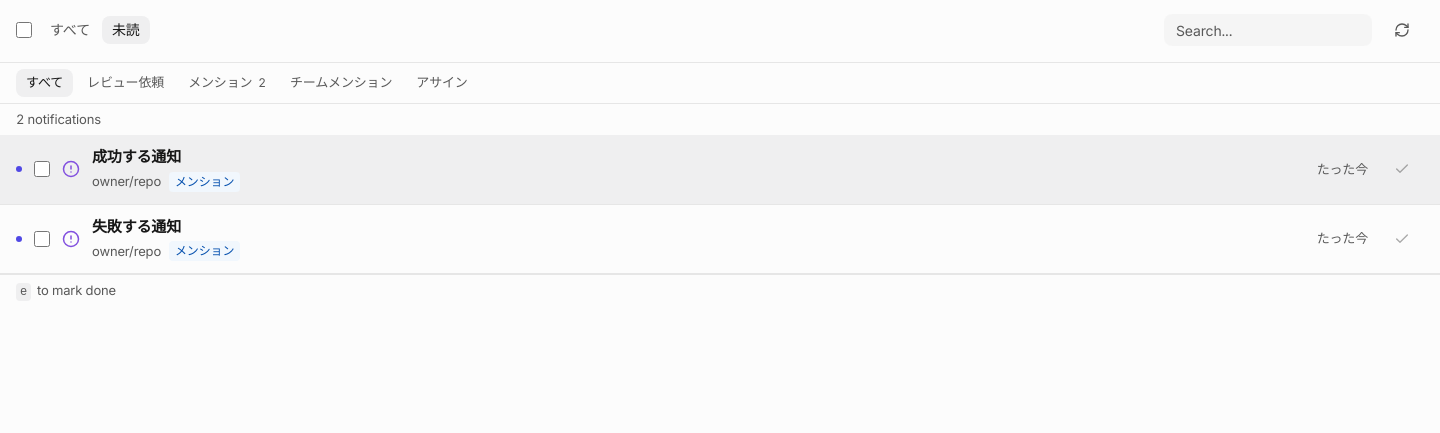
Test: InboxList › 全件表示の一部失敗では既読行を未処理残件に含めない
Click the 1st button "すべて" at (70,30), box [40,16,100,44]
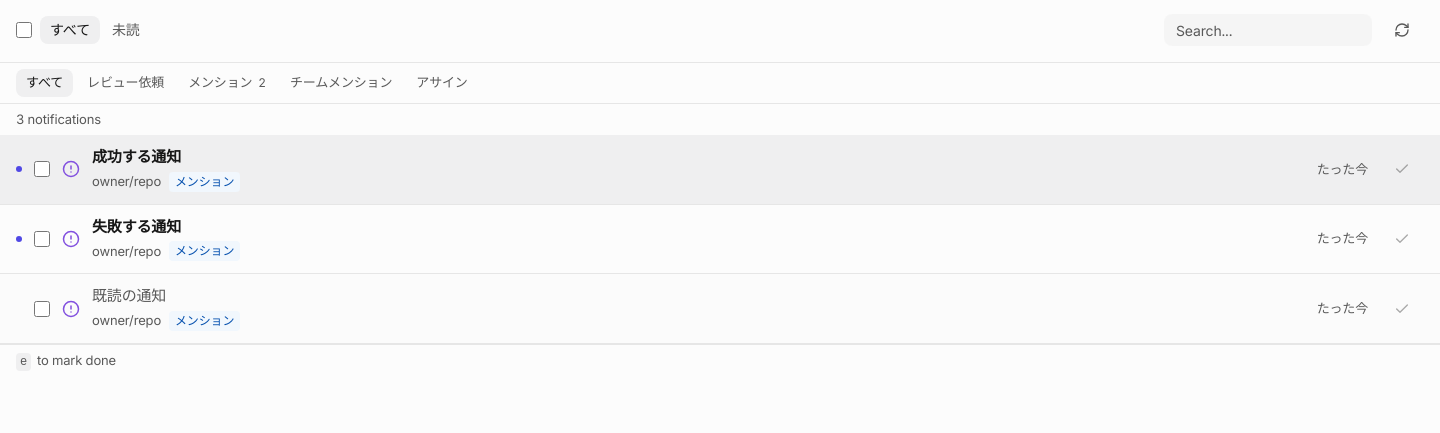
Click the checkbox named "成功する通知 を選択" at (42,169), box [34,161,50,177]
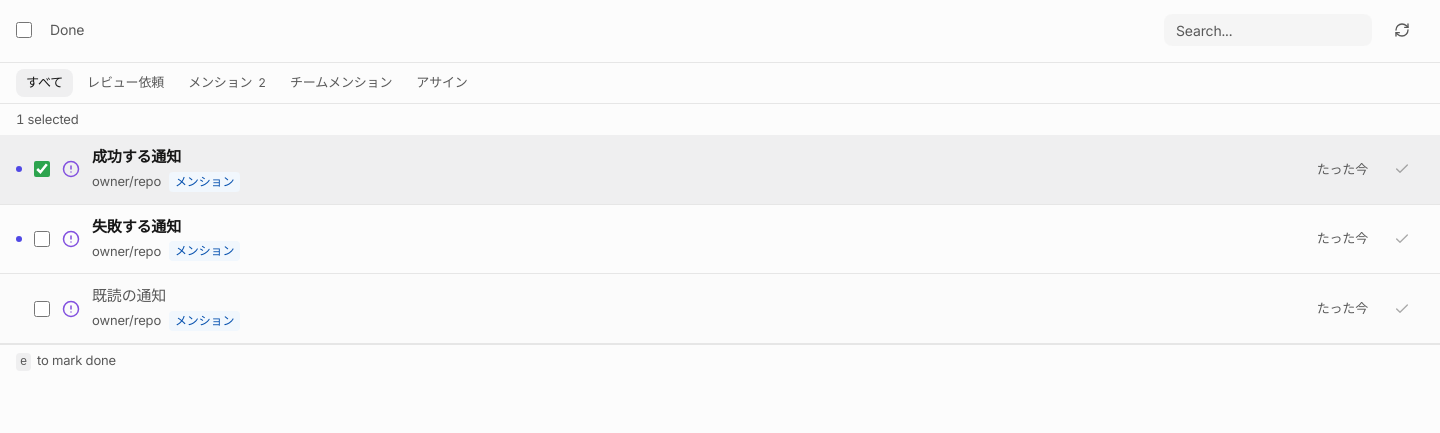
Click the checkbox named "失敗する通知 を選択" at (42,239), box [34,231,50,247]
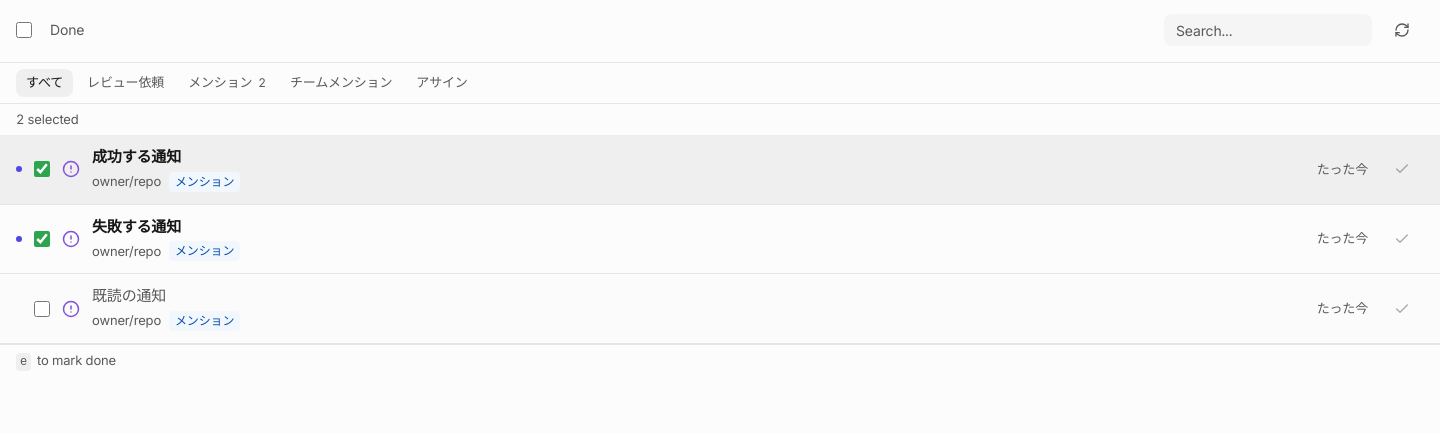
Click the button "Done" at (67,30), box [40,16,94,44]
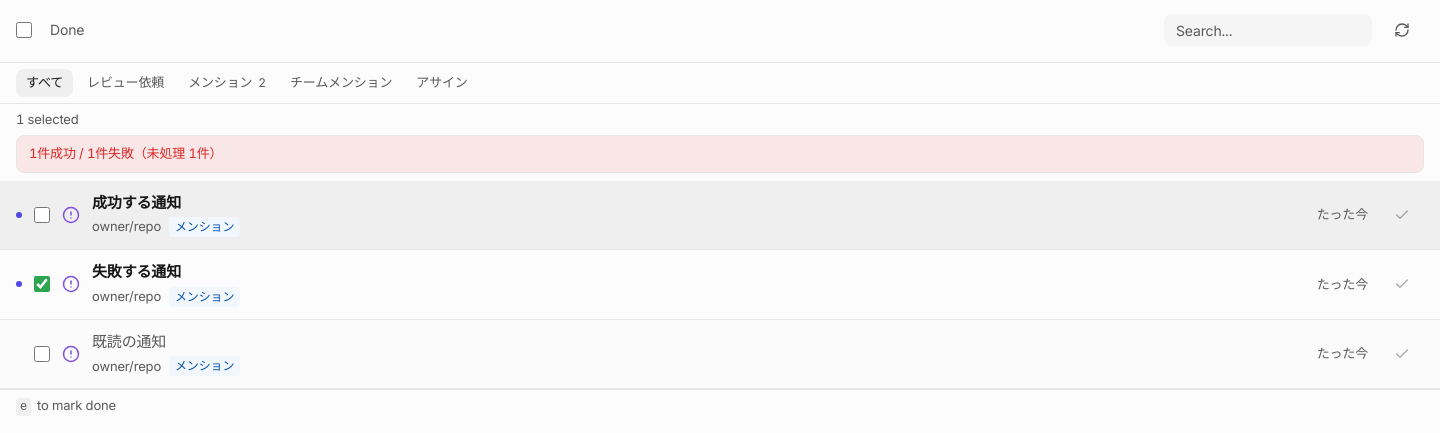
Expected: the message reads "1件成功 / 1件失敗（未処理 1件）", [29,145,222,161]
